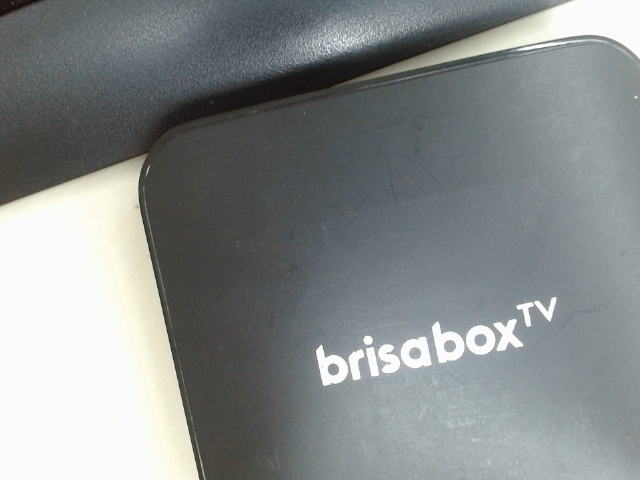AH_brisabox: (291, 291, 574, 391)
